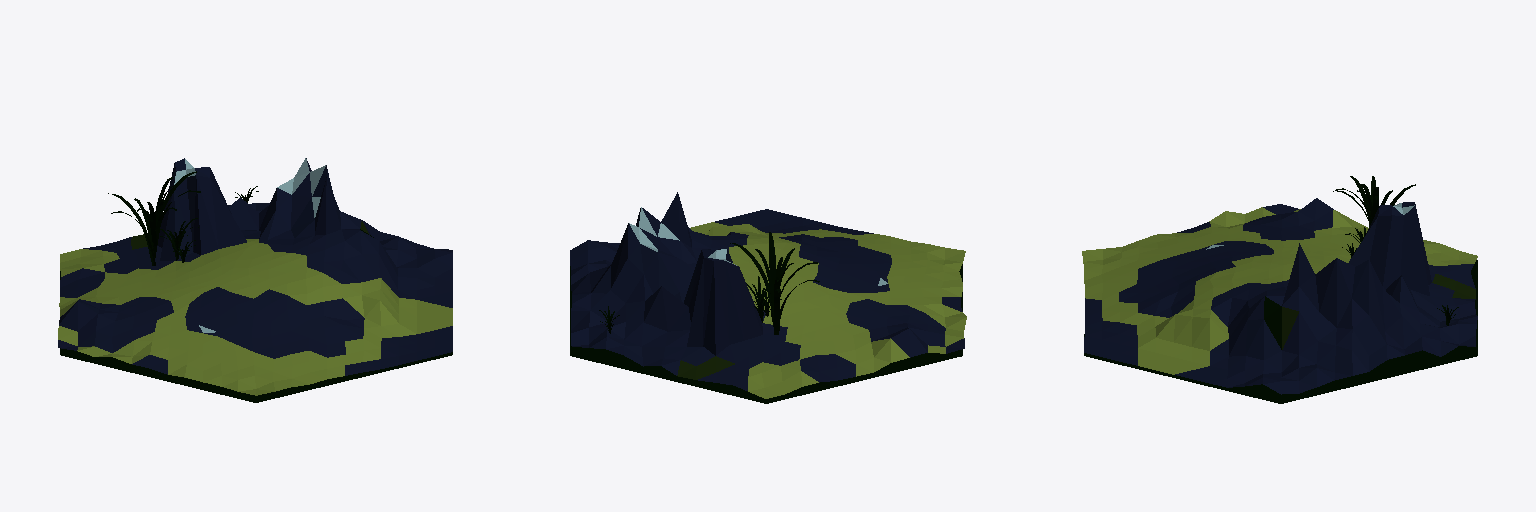
The model's file is mountain2.obj.
3 renders of one model, left to right at view 1: azimuth 30°, elevation 25°; view 2: azimuth 150°, elevation 25°; view 3: azimuth 270°, elevation 25°, orthographic.
Parts seen in each view (by area): view 1: Circle.001; view 2: Circle.001; view 3: Circle.001.
Part boxes in pixels (x1,y1,x2,y2): Circle.001: (58, 158, 452, 402); Circle.001: (570, 192, 966, 403); Circle.001: (1082, 176, 1477, 403).
Bounding box in the file's own units: 2.01 × 0.5045 × 1.75.